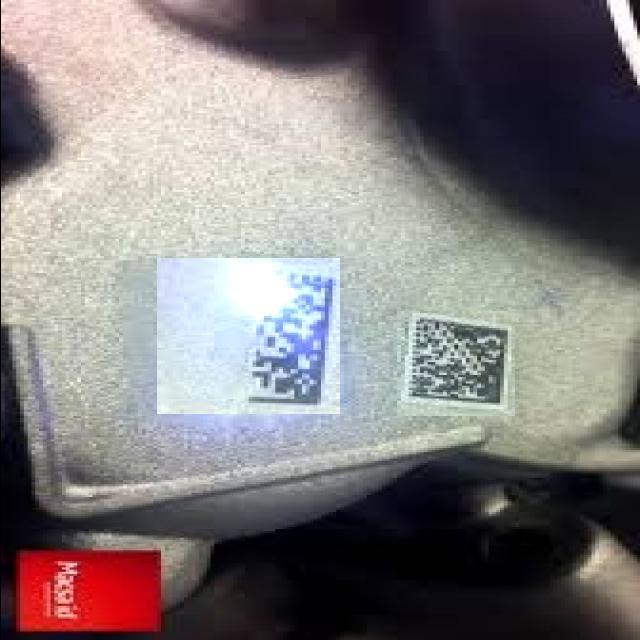Data-Matrix: (156, 258, 339, 414), (396, 311, 514, 416)
